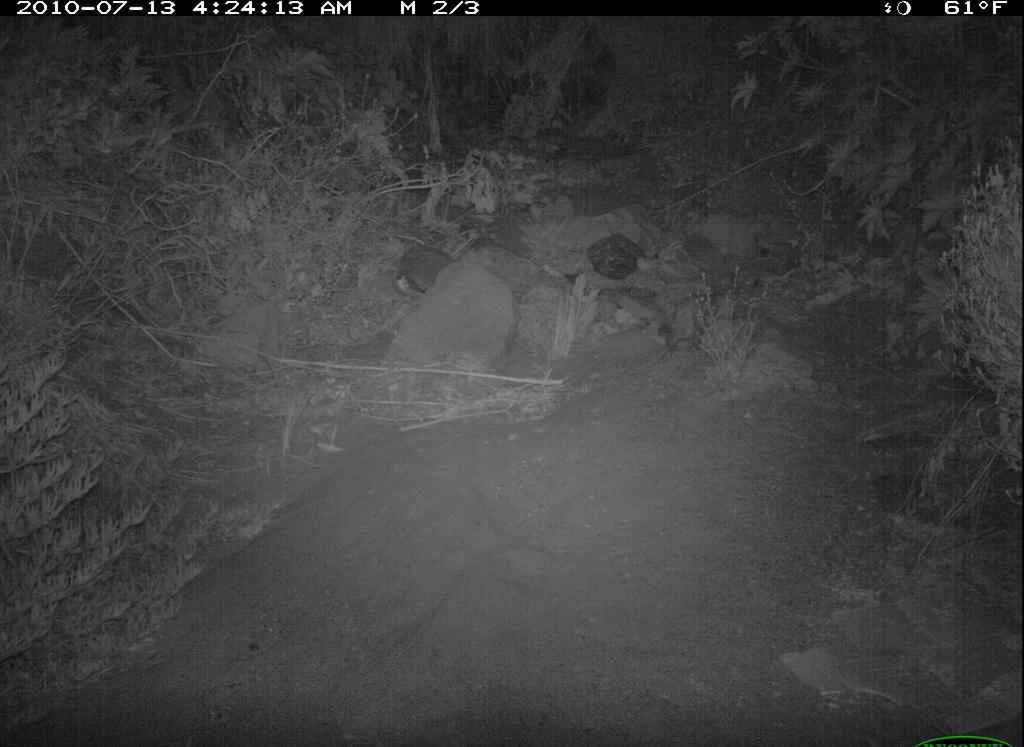opossum: (654, 285, 721, 349)
